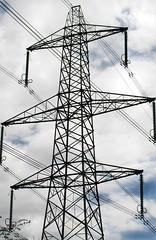power_tower: (8, 5, 149, 240)
